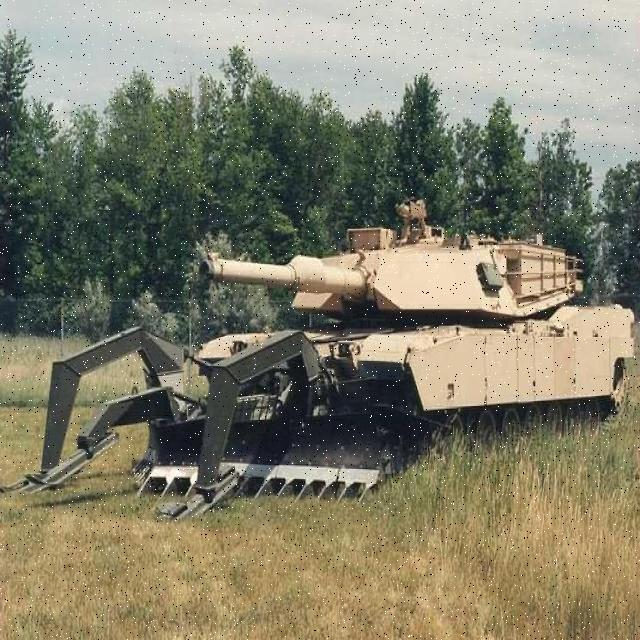MIL_MBT: (193, 200, 626, 367)
